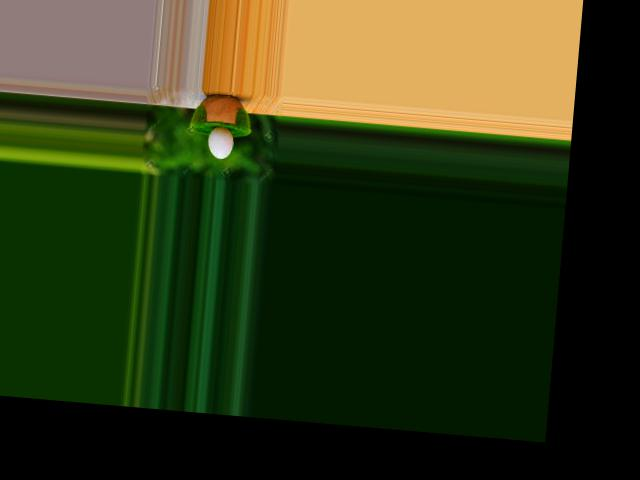egg: (205, 125, 234, 159)
